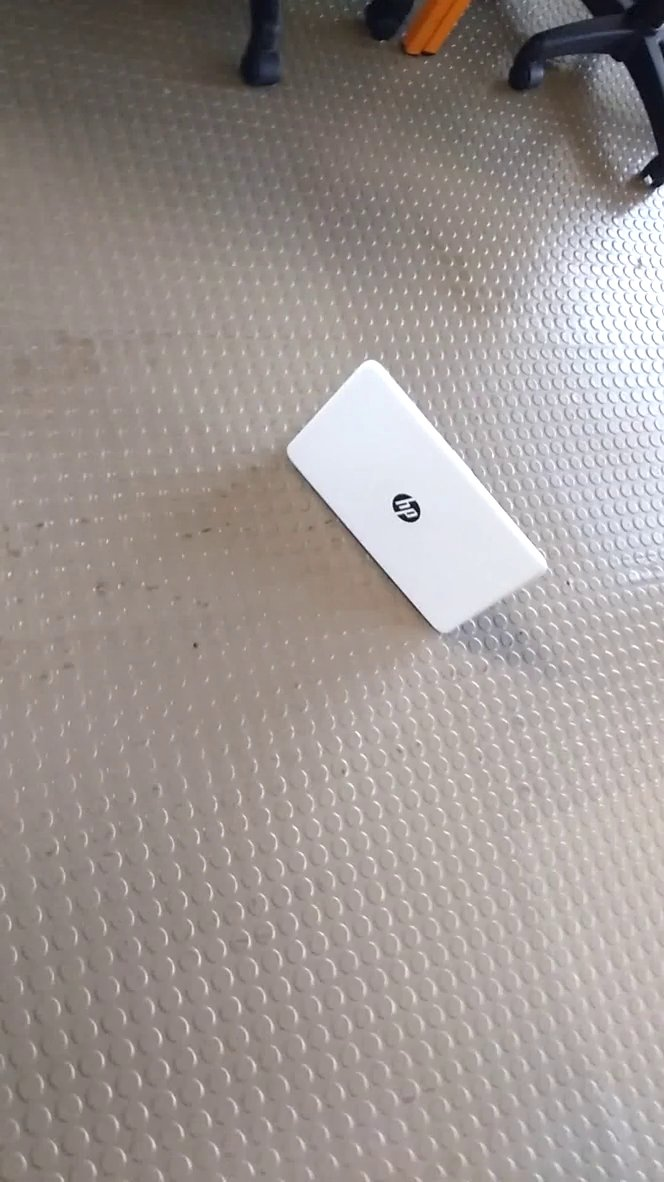laptop: (276, 350, 565, 659)
